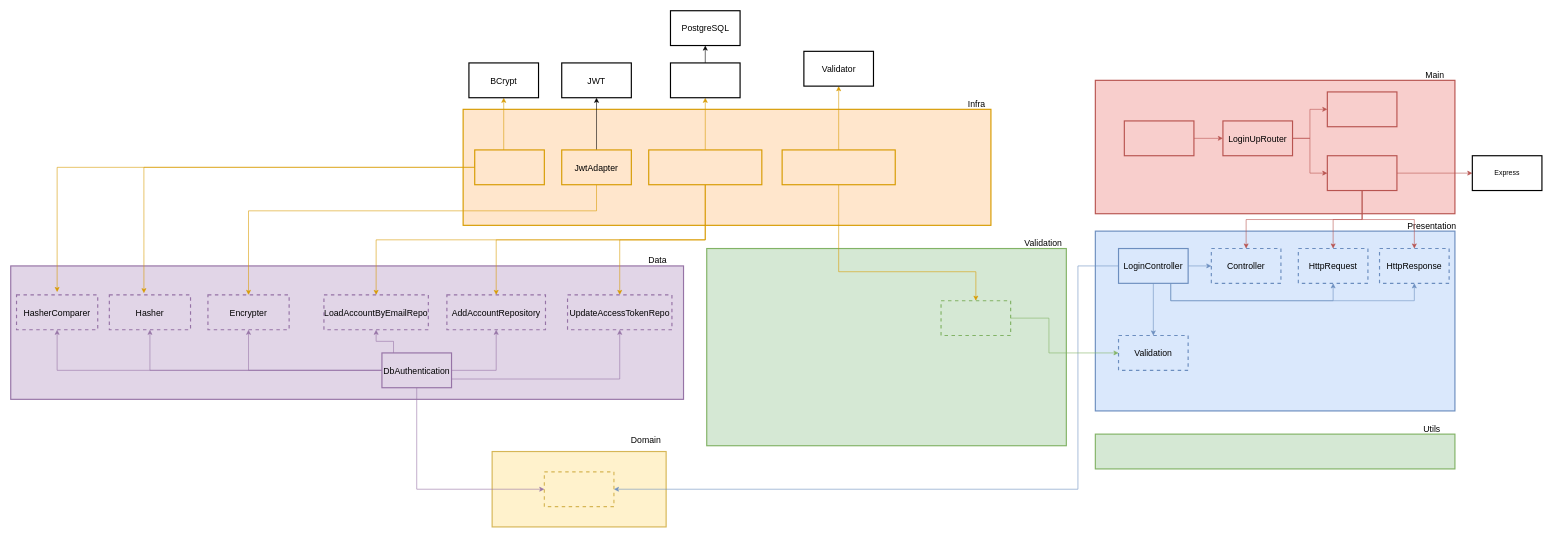
Image size: 1552x537. Some labels were removed from this diagram. Here are the shapes that lost their labels. From the top down, the centre of each, then its label:
At (705,80): "Knex".
At (1361,109): "LoginUpFactory".
At (1158,138): "App".
At (509,167): "BcryptAdapter".
At (705,167): "AccountPostgresRepository".
At (838,167): "EmailValidatorAdapter".
At (1361,173): "ExpressRouteAdapter".
At (975,318): "EmailValidation".
At (578,489): "Authentication".
